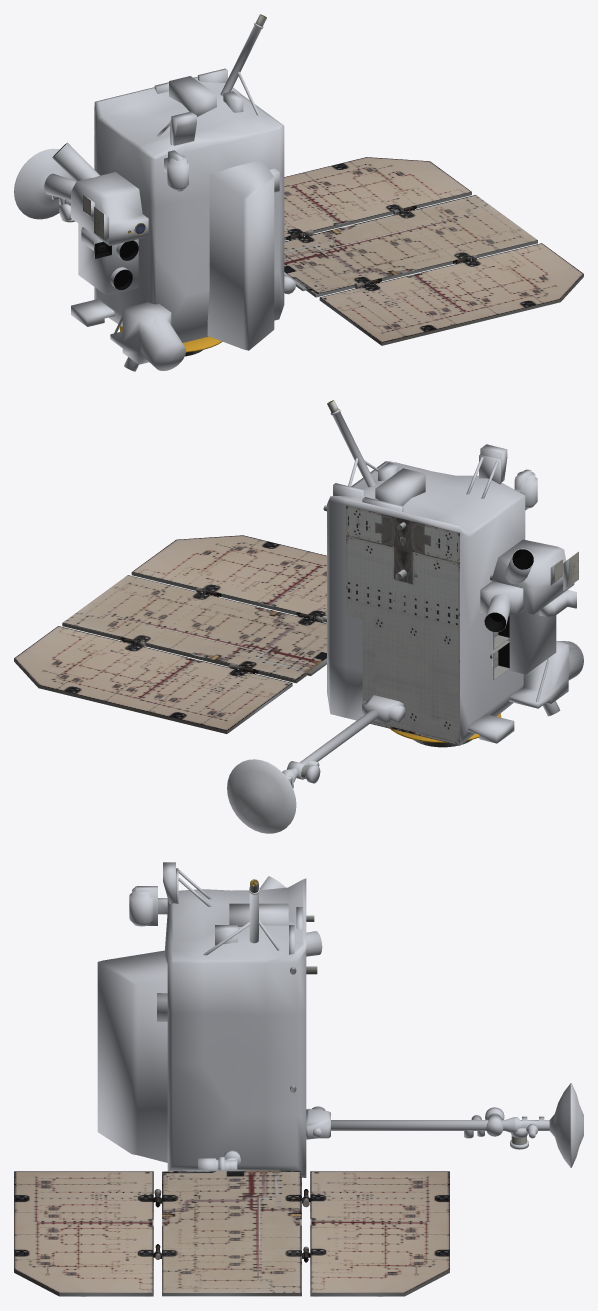
File: lro.glb
3 views of the same model, one above another, from view 1: azimuth 30°, elevation 25°; view 2: azimuth 150°, elevation 25°; view 3: azimuth 270°, elevation 25° (orthographic). The views are drawn at different scales.
Visible parts, largest first — view 1: lro_mesh; view 2: lro_mesh; view 3: lro_mesh.
Boxes of the visible parts, <box> form: lro_mesh: <box>14,14,583,371</box>; lro_mesh: <box>14,400,583,833</box>; lro_mesh: <box>14,862,583,1296</box>.
Size of the model in its own units: 5.45 by 3.66 by 5.51.
Materials: 6 (3 with a texture image).
